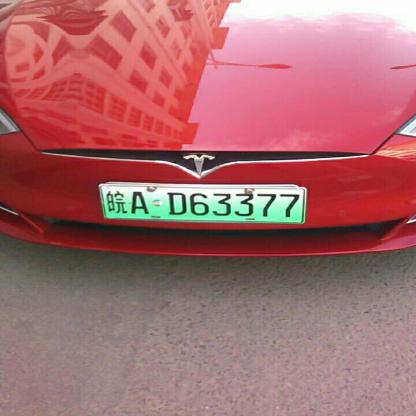lp: (100, 186, 304, 222)
